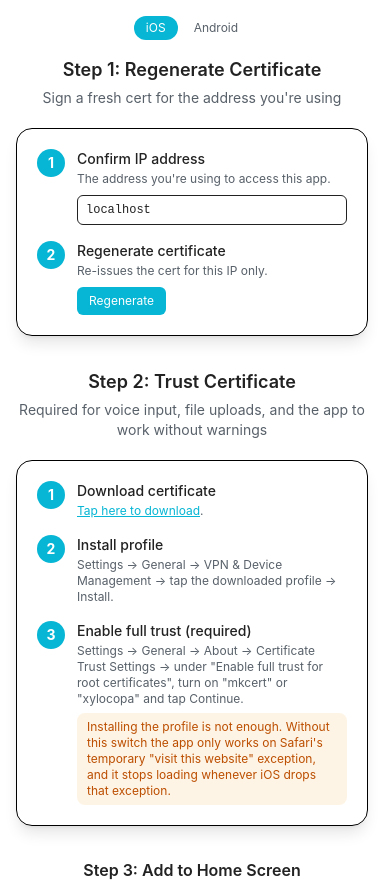
it: CertGuidePage regenerate › even a session 401 (X-Auth-Reason) stays inline on this public page
Step 1. Replace the text in the field with "100.64.0.10" → [212, 210], box [77,195,347,225]
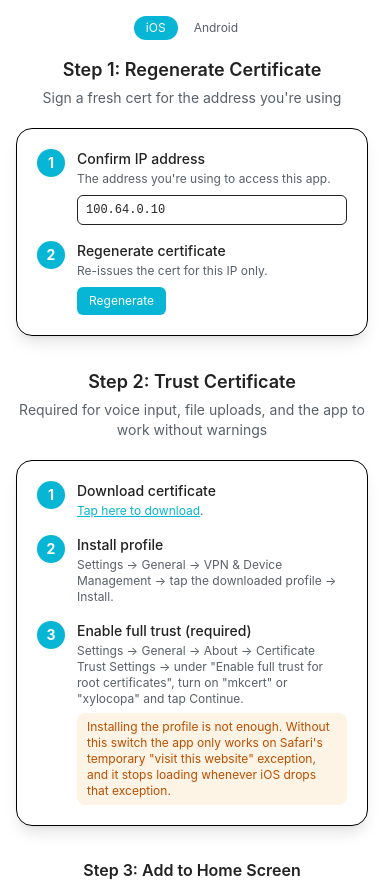
Step 2. Click the button "Regenerate" → [122, 301], box [77,287,166,315]
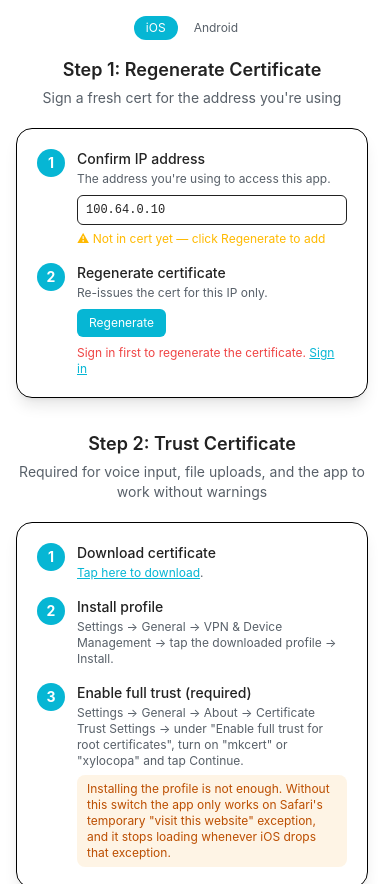
Result: the text "Sign in first to regenerate the certificate. Sign in" is shown at [77,345,347,377]
